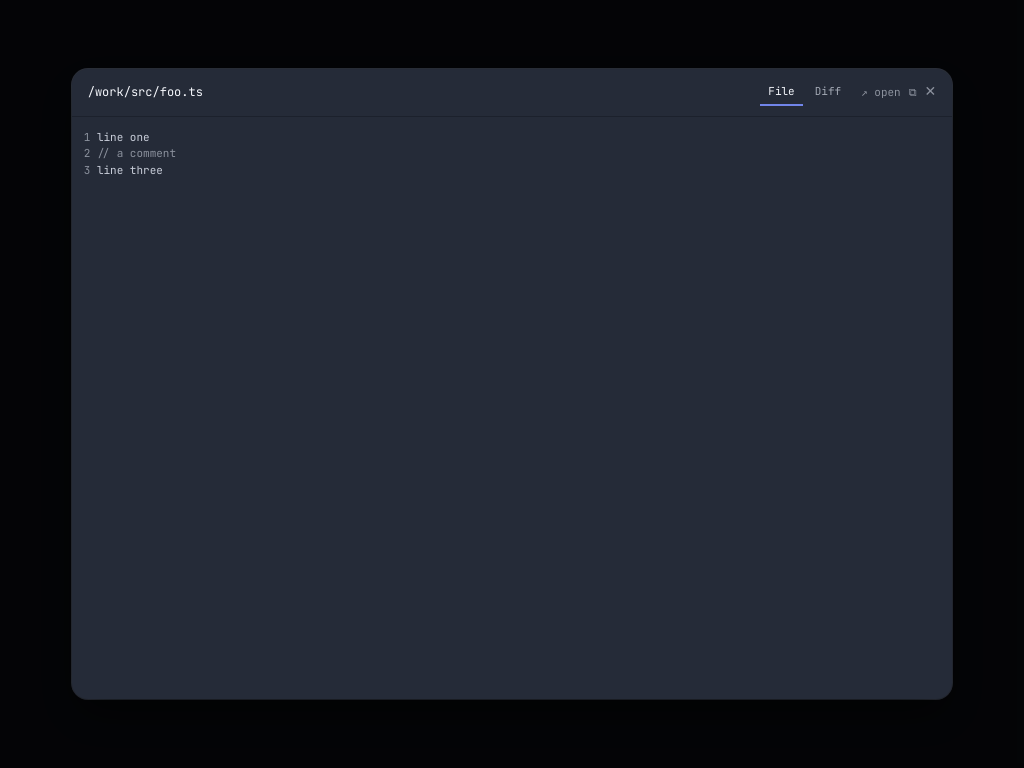
Test: FileViewer — File tab states › renders mono content with line numbers; the Diff tab does NOT fetch until activated
Expected: the text "line one" is shown, x1=97 y1=129 x2=150 y2=145
Expected: the text "3" is shown, x1=84 y1=163 x2=90 y2=177
// Switching IS the gesture — now the diff fetch fires, narrowed to the path.
Click the tab with test id "viewer-tab-diff" at (828, 92), box x1=807 y1=79 x2=849 y2=106
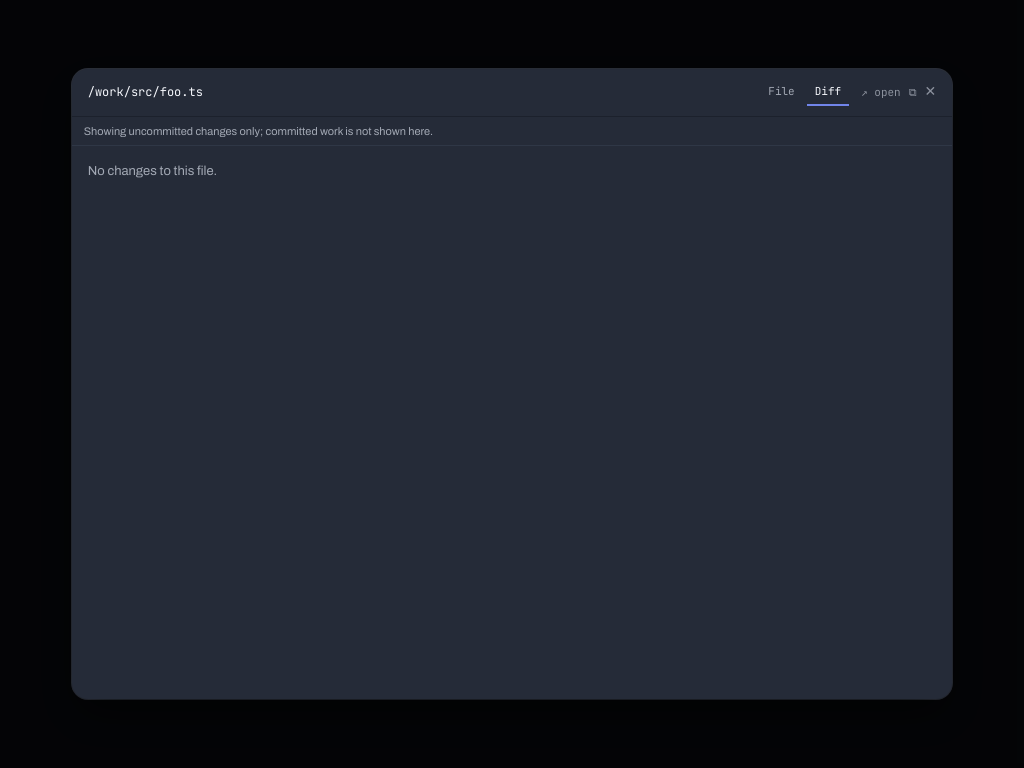
Result: the text "No changes to this file." is shown at x1=88 y1=164 x2=217 y2=178
